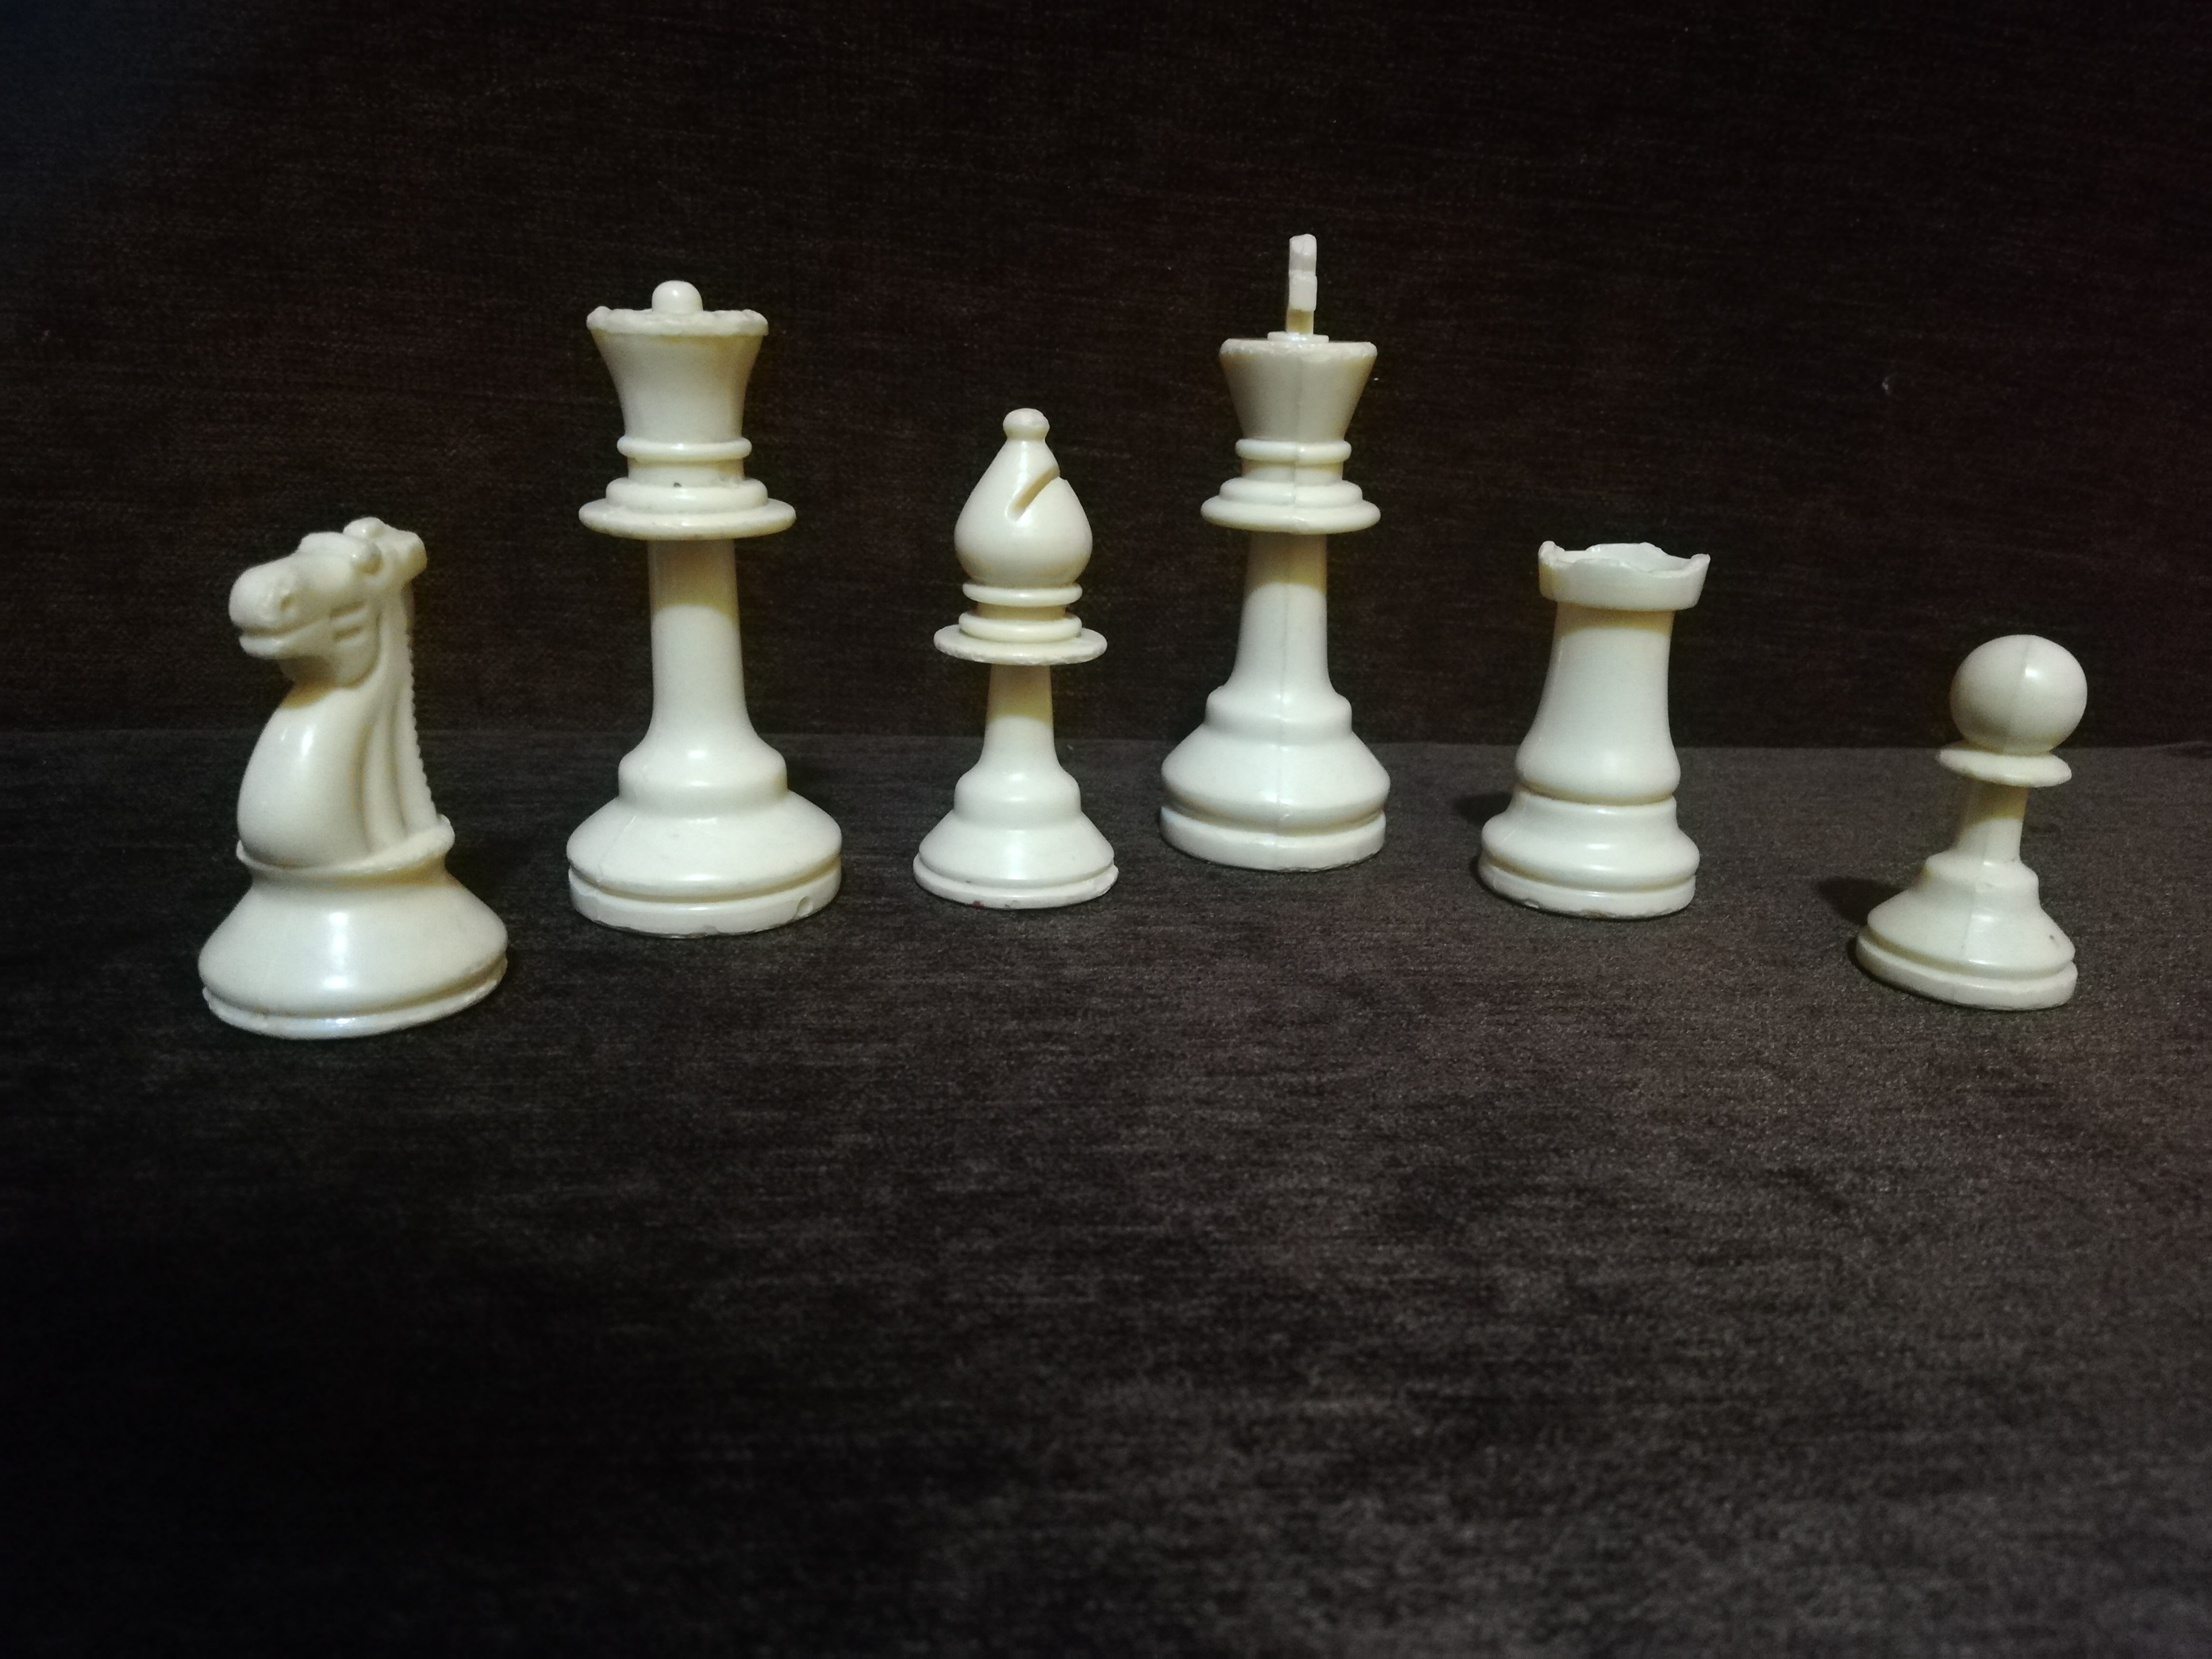Bishop: (916, 388, 1130, 901)
King: (1158, 225, 1402, 863)
Knight: (211, 513, 520, 1010)
Pawn: (1859, 625, 2090, 1020)
Queen: (568, 276, 853, 918)
Rook: (1478, 520, 1711, 914)
